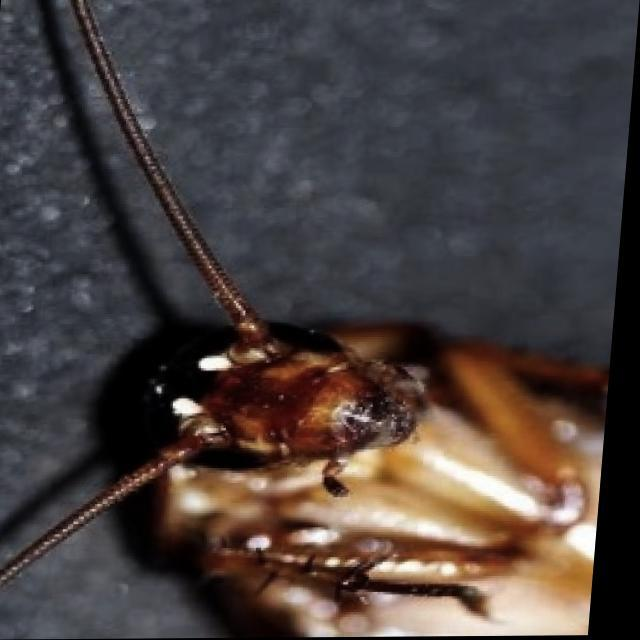cockroach: (95, 138, 640, 640)
